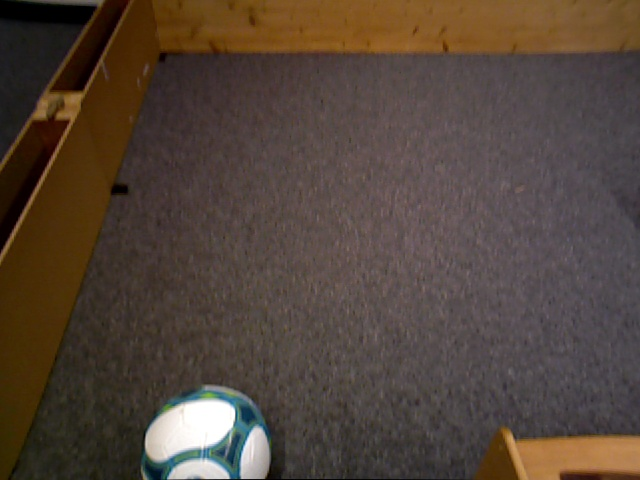kick: (142, 385, 270, 480)
